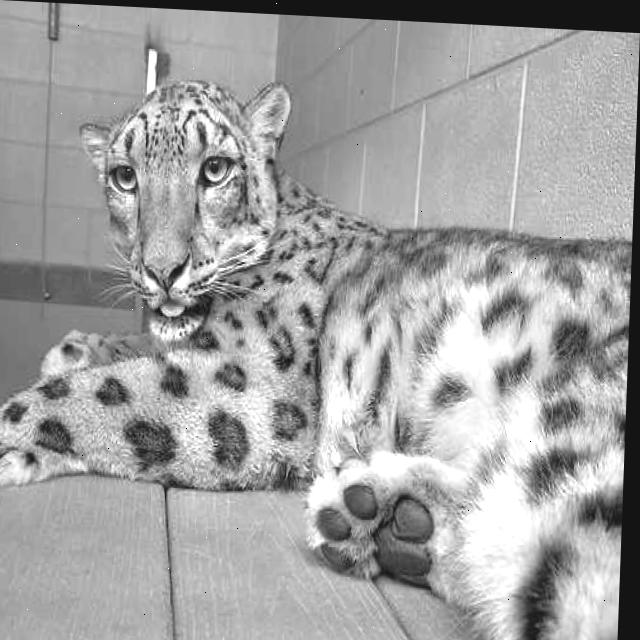Leopard: (0, 63, 636, 640)
